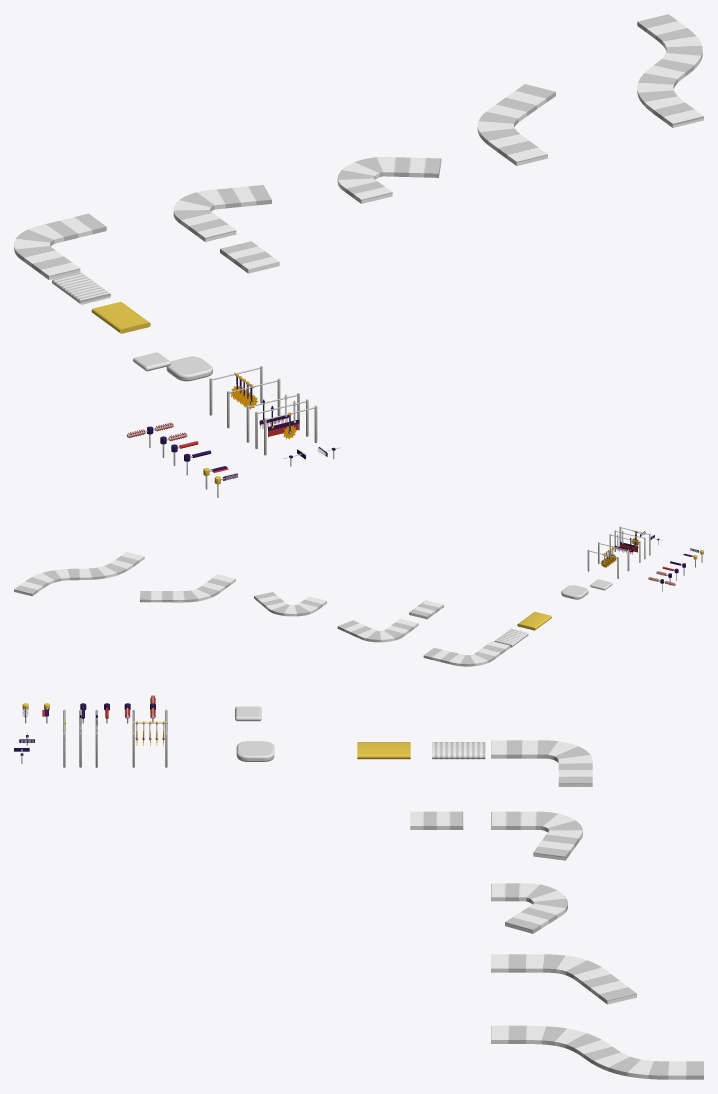
File: obstacole converted v2.fbx
3 renders of one model, top to bottom at view 1: azimuth 30°, elevation 25°; view 2: azimuth 150°, elevation 25°; view 3: azimuth 270°, elevation 25°, orthographic. The views are drawn at different scales.
Visible parts, largest first — view 1: long, 120_2, 90_2, 70_2, 60_2, sample, platform_one_color, platform_stripes_1, Extrude_3; view 2: long, 120_2, 90_2, 70_2, 60_2, sample, platform_one_color, platform_stripes_1, Extrude_3; view 3: long, 120_2, 90_2, 70_2, 60_2, sample, platform_one_color, platform_stripes_1, Extrude_3.
Boxes of the visible parts, x1,y1,x2,y2 form: long: [637, 14, 703, 127]; 120_2: [477, 84, 555, 165]; 90_2: [14, 213, 106, 279]; 70_2: [173, 185, 271, 241]; 60_2: [337, 157, 441, 203]; sample: [220, 241, 279, 273]; platform_one_color: [91, 301, 150, 333]; platform_stripes_1: [52, 272, 110, 304]; Extrude_3: [166, 356, 212, 381]; long: [14, 552, 144, 596]; 120_2: [140, 574, 235, 602]; 90_2: [423, 641, 509, 666]; 70_2: [337, 619, 418, 642]; 60_2: [254, 592, 326, 616]; sample: [409, 600, 443, 619]; platform_one_color: [517, 612, 551, 630]; platform_stripes_1: [494, 628, 528, 647]; Extrude_3: [561, 585, 588, 599]; long: [491, 1025, 703, 1079]; 120_2: [491, 954, 636, 1004]; 90_2: [491, 740, 592, 786]; 70_2: [491, 811, 582, 860]; 60_2: [491, 883, 567, 933]; sample: [410, 811, 463, 829]; platform_one_color: [357, 742, 410, 759]; platform_stripes_1: [432, 742, 485, 759]; Extrude_3: [236, 741, 274, 761].
Size of the model in its own units: 6781 by 387 by 5175.
13 materials, 8 textured.
